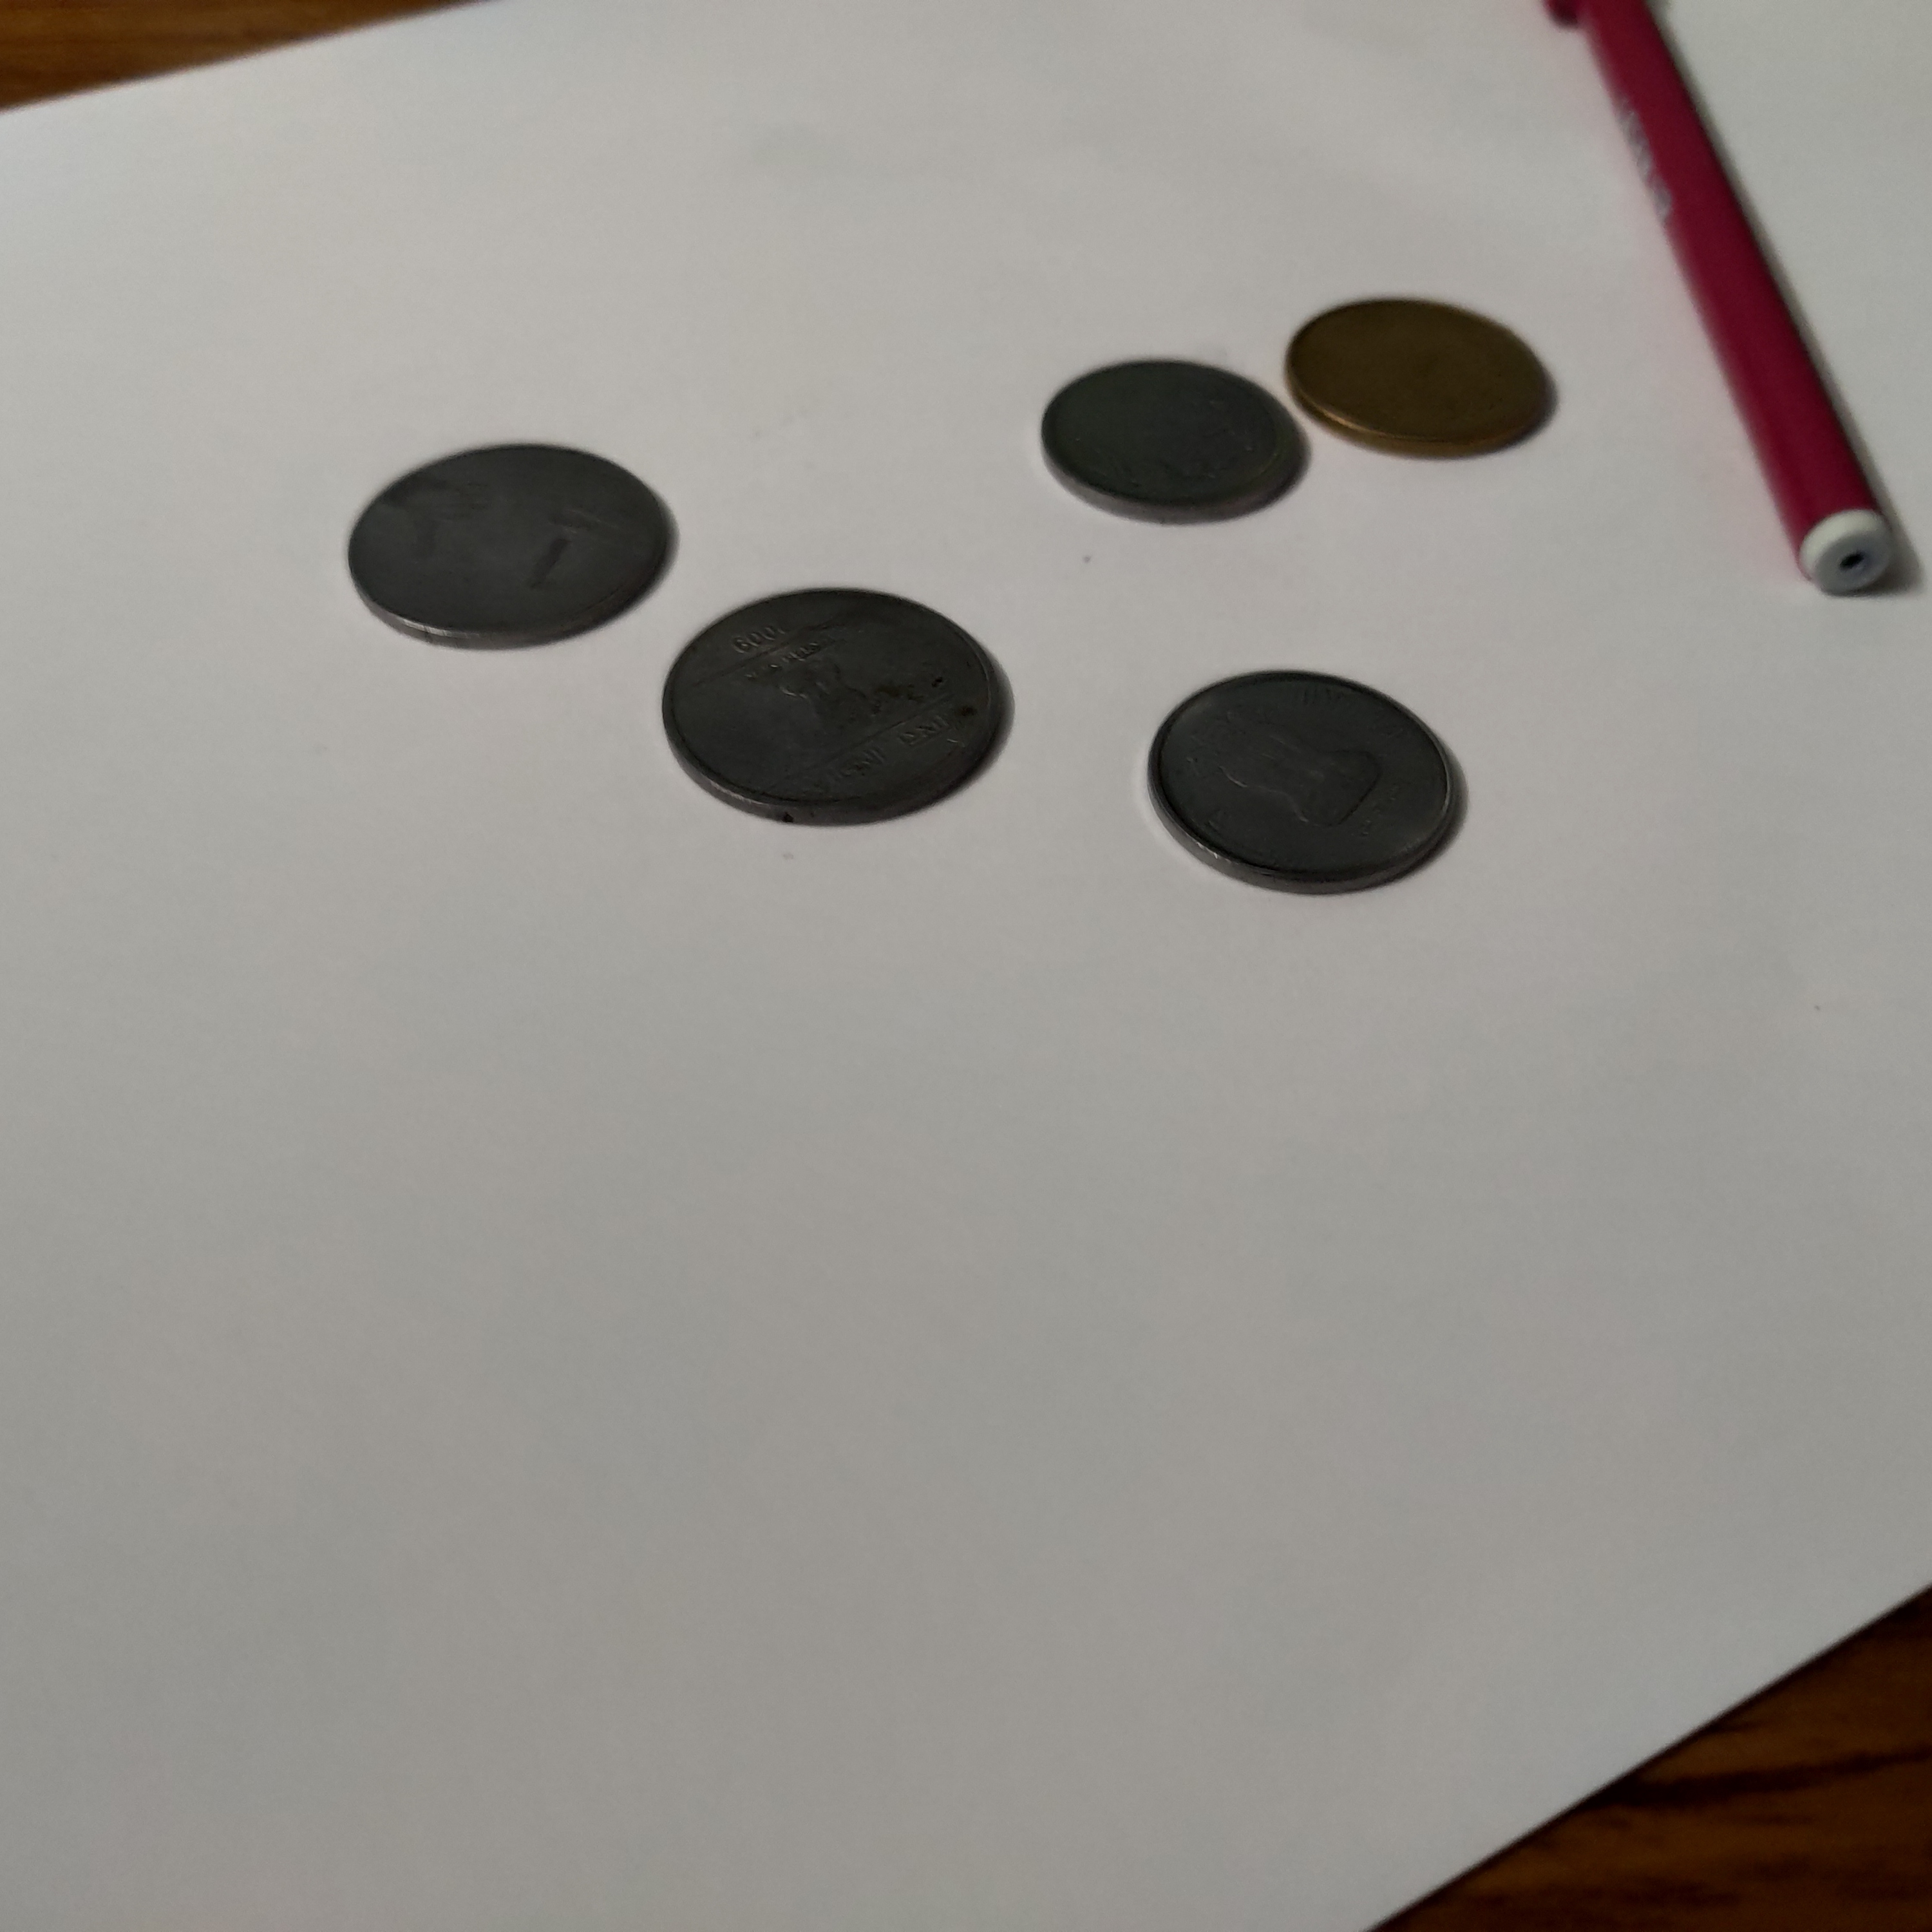coin: (1119, 629, 1513, 928), (310, 377, 692, 664), (659, 589, 1054, 849), (1014, 294, 1347, 545), (1268, 247, 1588, 498)
